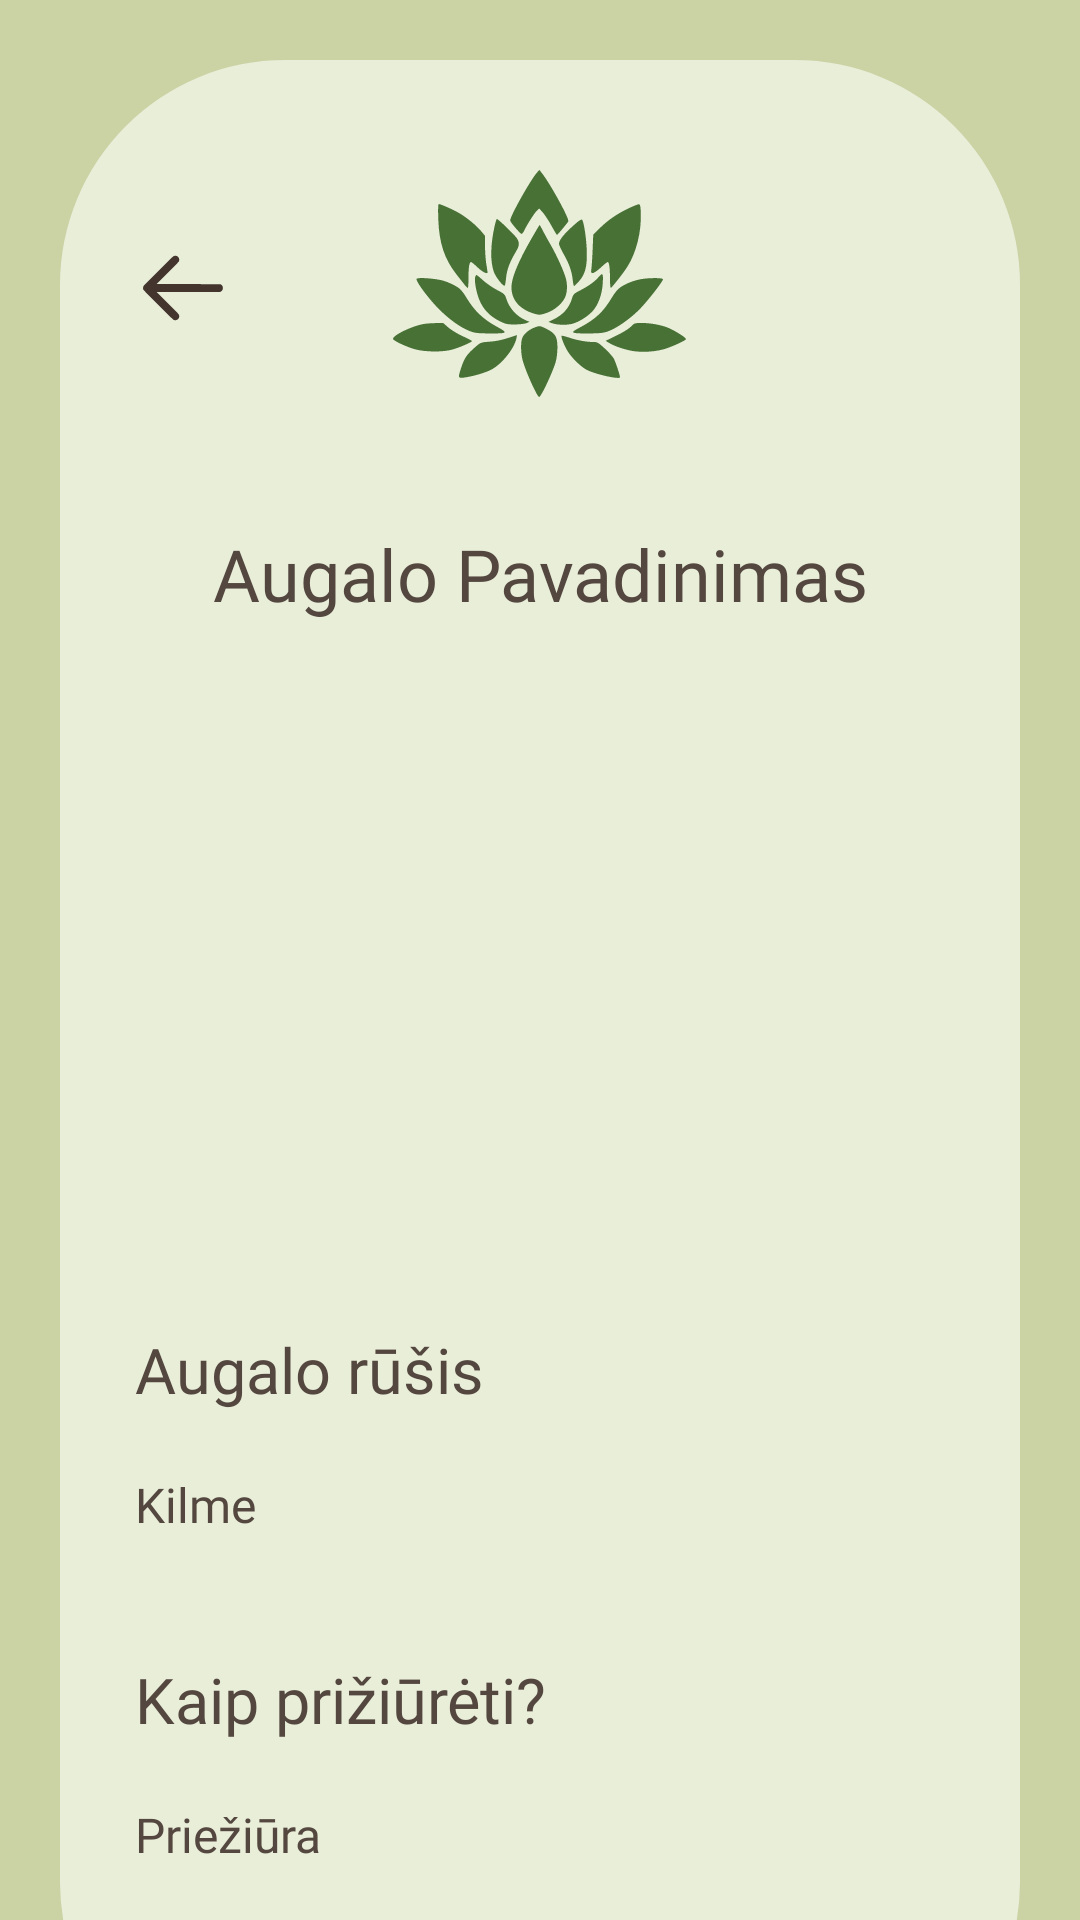

Screen size 1080 × 1920. Icon name, then its box in pixels as (x1, y1, x2, y2):
Lotus icon: (393, 170, 686, 397)
